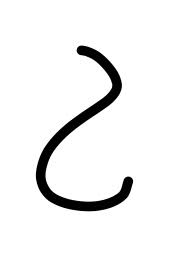a: (61, 36, 140, 138)
s: (27, 147, 150, 228)
